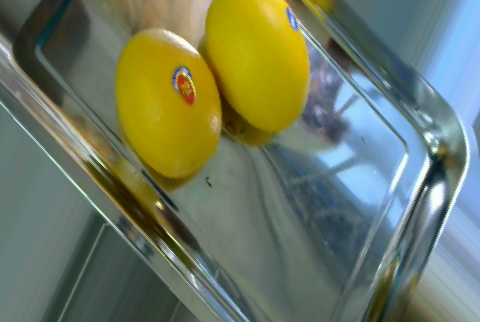Orange: (117, 27, 220, 177), (204, 2, 309, 132)
